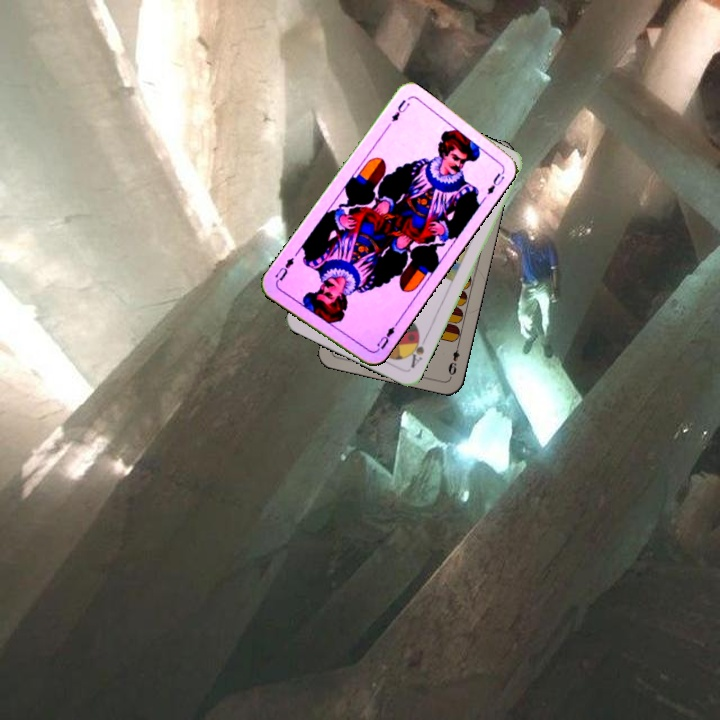E9: (444, 339, 462, 380)
EU: (369, 319, 400, 354), (387, 95, 412, 125)
SA: (405, 331, 427, 371)
